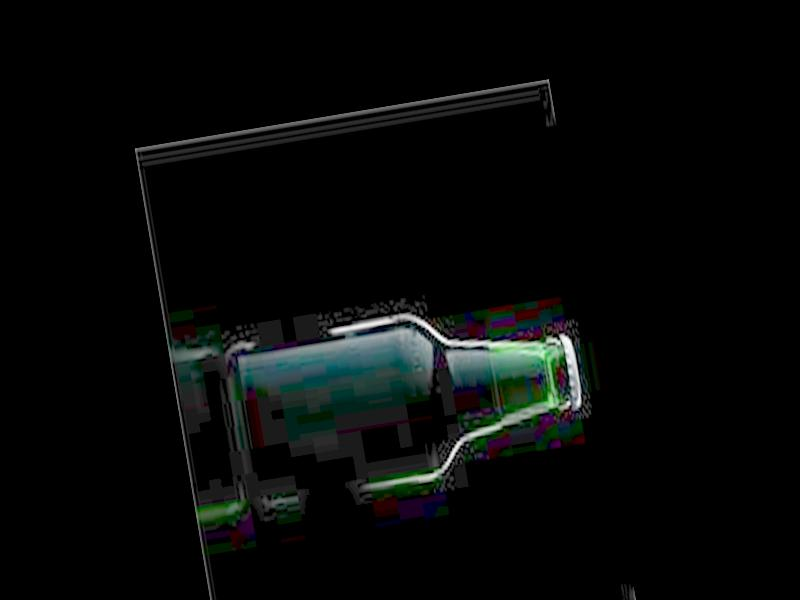Beer: (226, 281, 592, 509)
